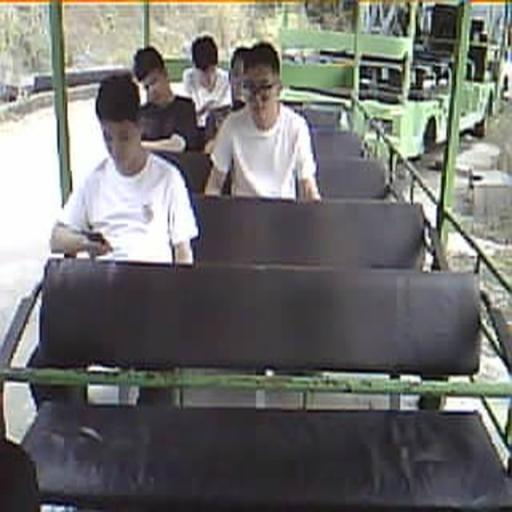persona: (50, 70, 200, 266), (204, 40, 322, 202), (132, 45, 205, 154), (182, 34, 234, 136), (205, 46, 247, 136)
